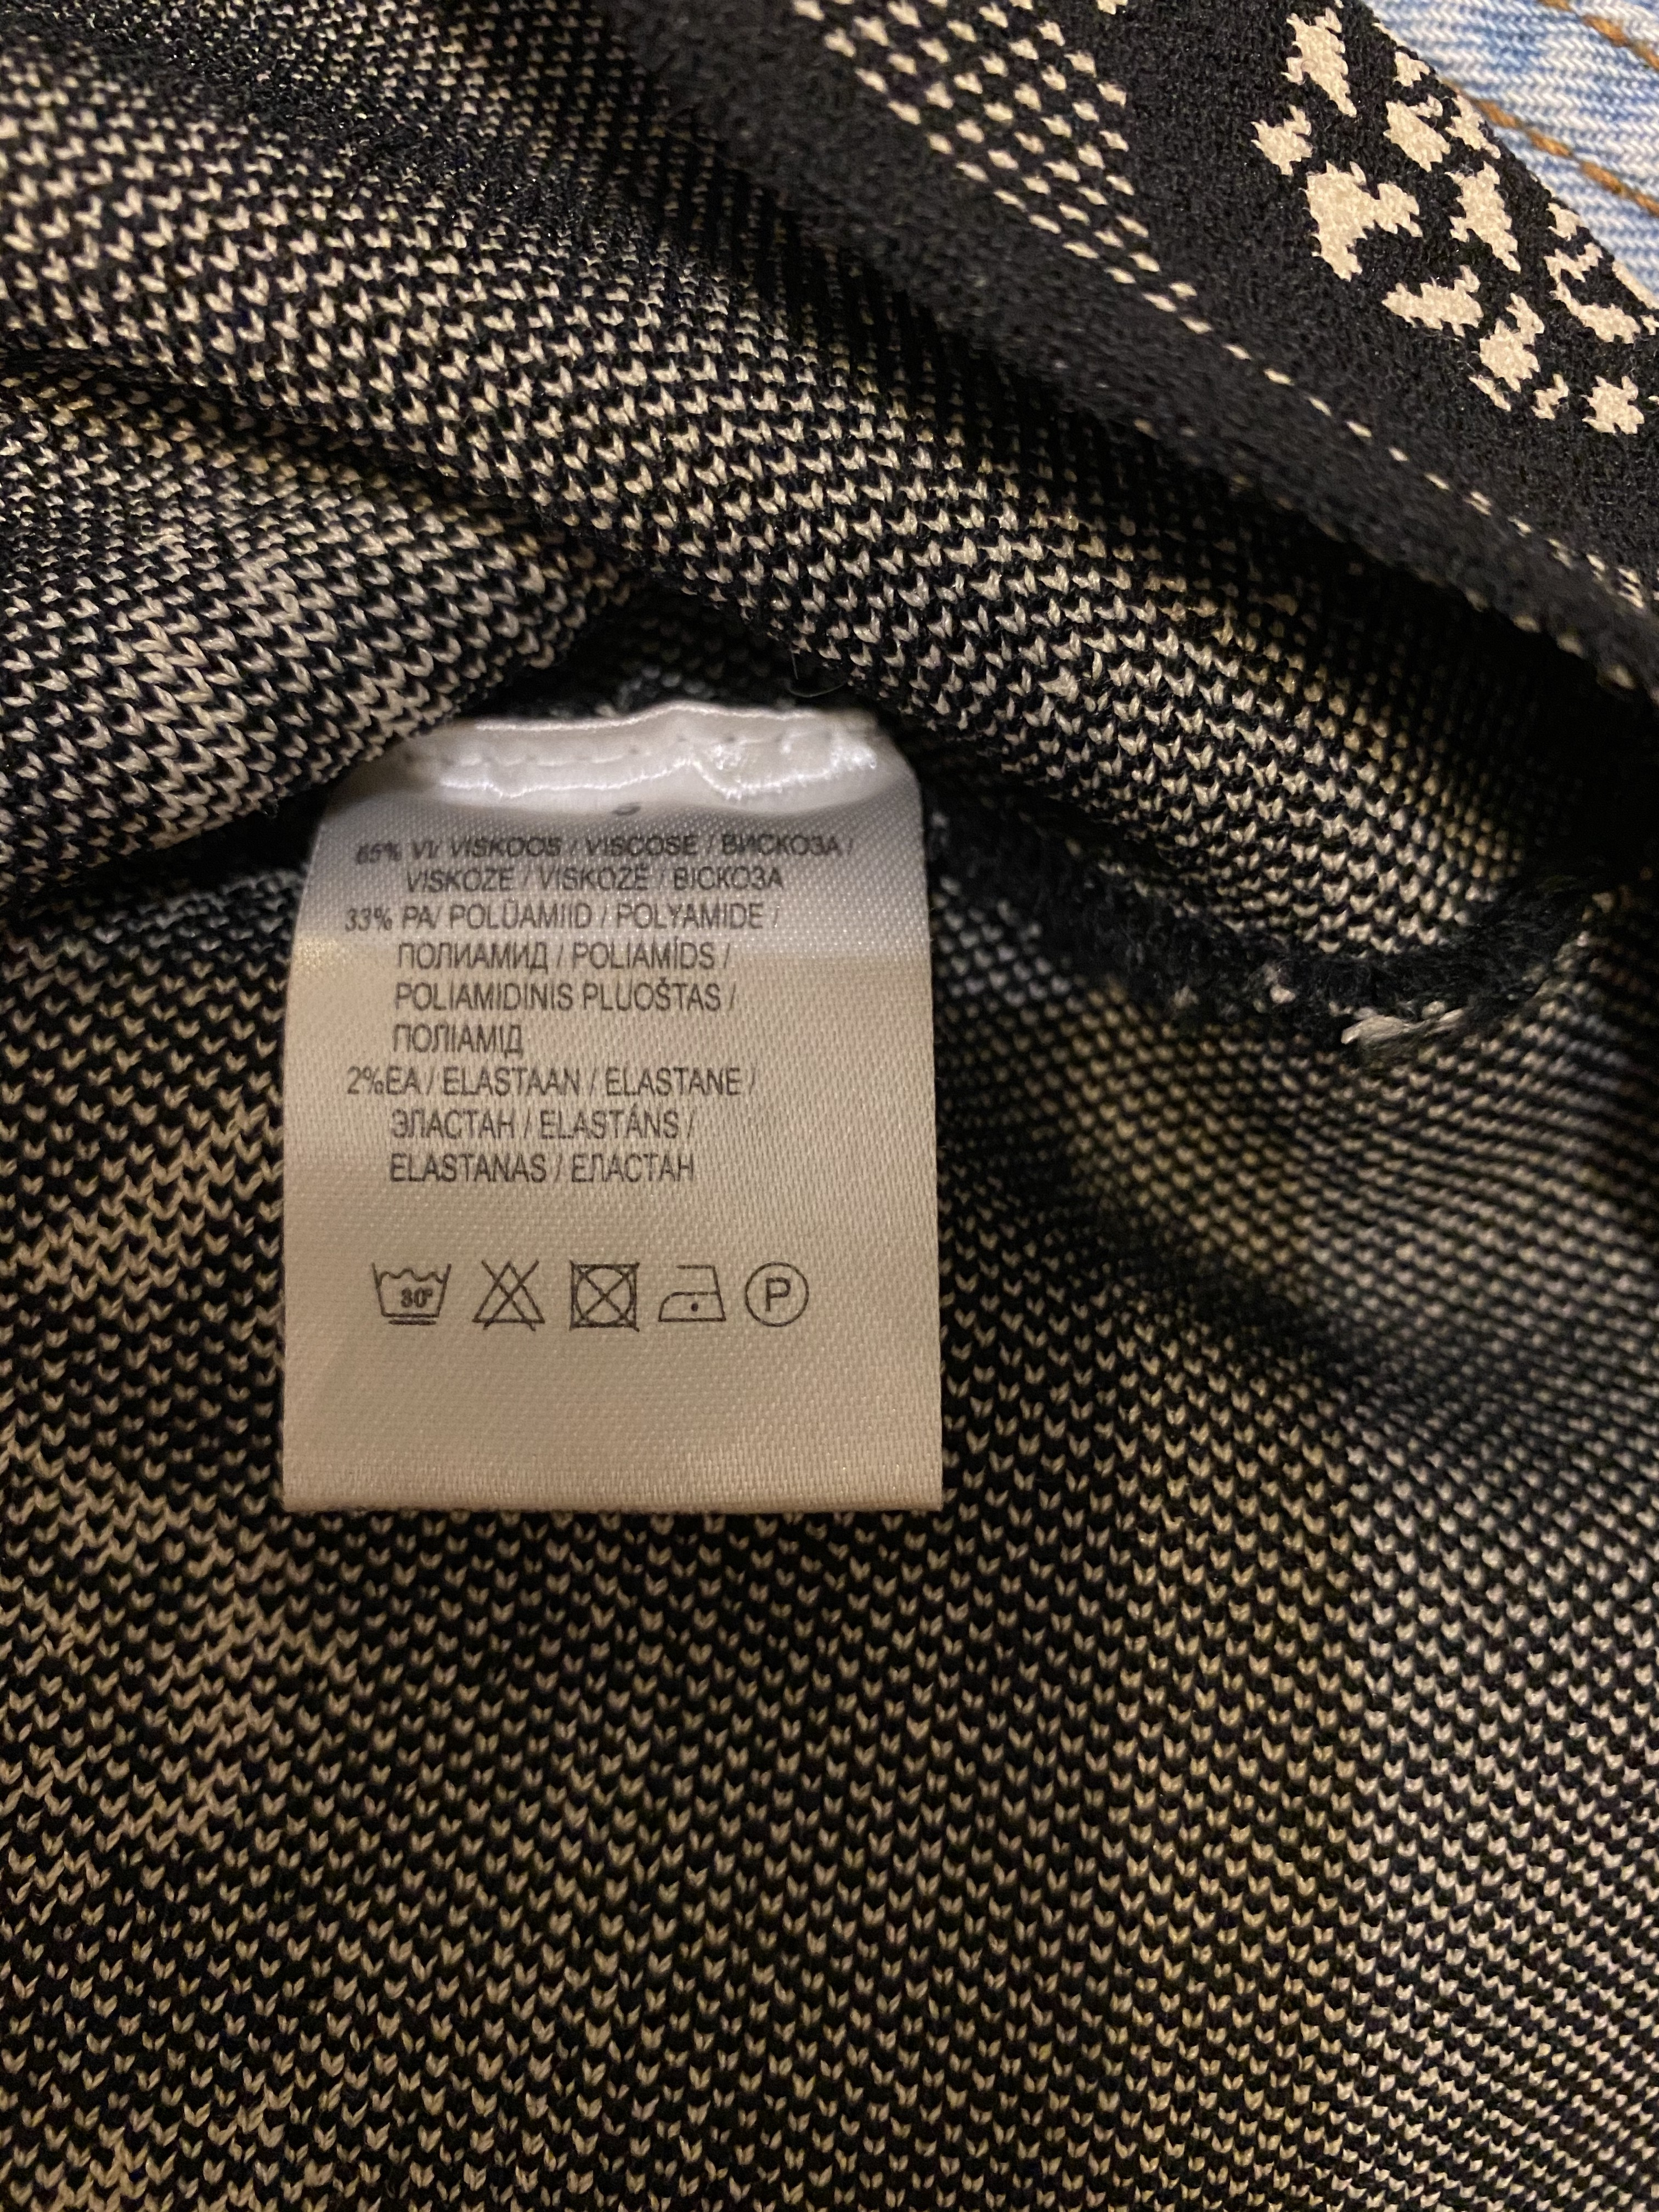do_not_bleach: (467, 1252, 549, 1334)
do_not_tumble_drying: (563, 1258, 645, 1338)
dry_clean_tetrachloroethylene_pce_only: (741, 1256, 812, 1329)
ironing_at_low_temp: (653, 1258, 728, 1331)
wash_at_or_below_30_mild_fine_wash: (366, 1258, 458, 1329)
